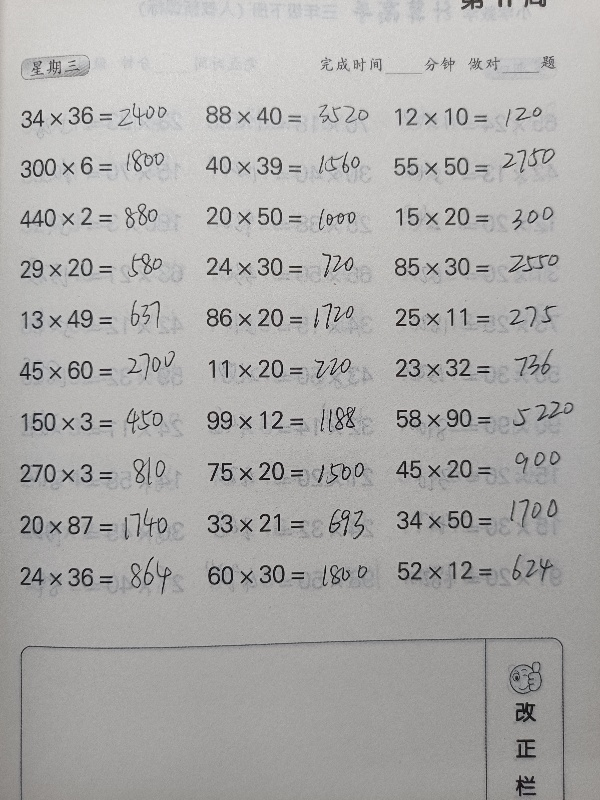equation: (11, 503, 191, 549), (198, 296, 378, 337), (11, 198, 191, 239), (12, 97, 192, 136), (11, 559, 191, 594), (198, 557, 378, 592), (199, 506, 379, 541), (12, 456, 192, 491), (199, 403, 379, 438), (388, 553, 568, 587), (388, 502, 568, 536), (199, 454, 379, 488), (388, 452, 568, 486), (13, 405, 193, 439), (387, 401, 567, 435), (10, 353, 190, 387), (200, 352, 380, 386), (387, 351, 567, 385), (13, 302, 193, 336), (12, 250, 192, 284), (386, 250, 566, 284), (199, 250, 379, 284), (388, 200, 568, 234), (198, 199, 378, 233), (386, 150, 566, 184), (197, 149, 377, 183), (11, 149, 191, 183), (387, 100, 567, 134), (197, 98, 377, 132), (387, 301, 567, 334)
